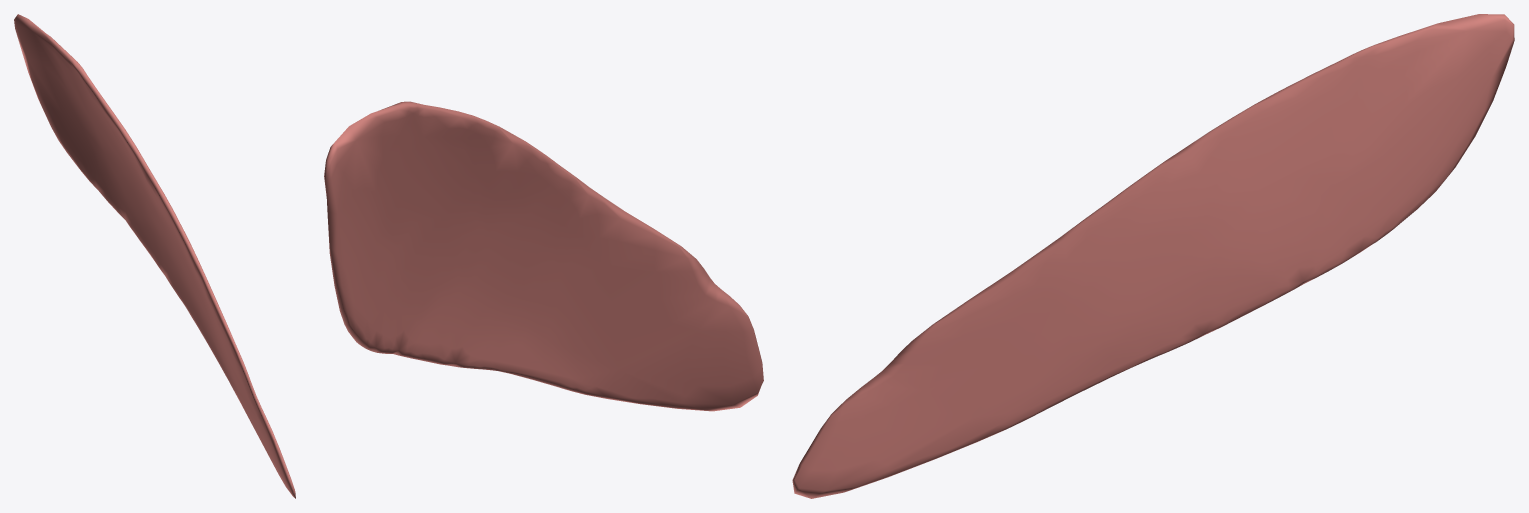
The picture shows the model from 3 angles, left to right: view 1: azimuth 30°, elevation 25°; view 2: azimuth 150°, elevation 25°; view 3: azimuth 270°, elevation 25°; orthographic projection. The views are drawn at different scales.
Parts seen in each view (by area): view 1: ZA_51e325109c55dc57; view 2: ZA_51e325109c55dc57; view 3: ZA_51e325109c55dc57.
Part boxes in pixels (left/top/right/bottom): ZA_51e325109c55dc57: left=14, top=14, right=295, bottom=498; ZA_51e325109c55dc57: left=324, top=101, right=763, bottom=411; ZA_51e325109c55dc57: left=792, top=14, right=1514, bottom=498.
Bounding box in the file's own units: 0.0048 × 0.0286 × 0.0406.
